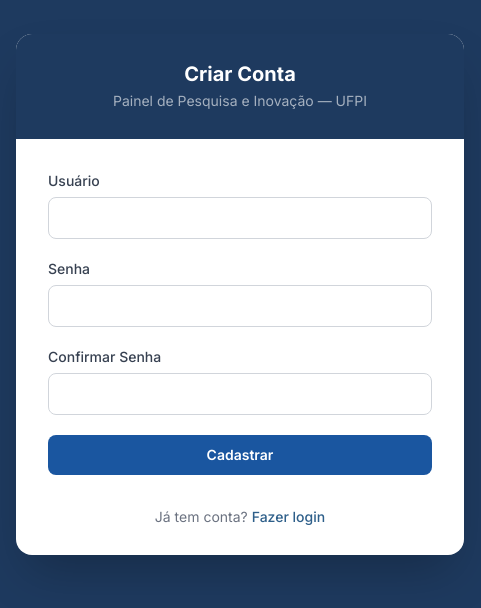
Test: Cadastro › exibe erro quando senha tem menos de 6 caracteres
In the field labelled "Usuário": (240, 218) [48, 196, 432, 238], type "usuario"
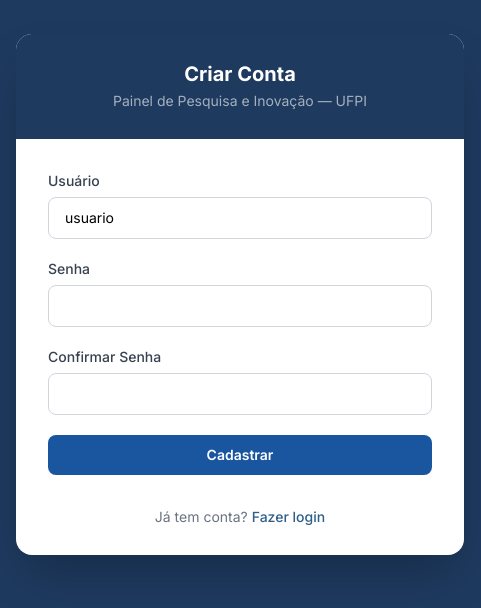
In the password field labelled "Senha": (240, 306) [48, 284, 432, 326], type "123"
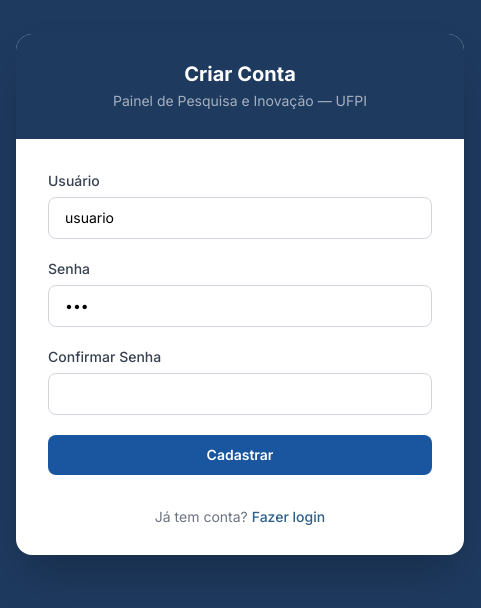
In the password field labelled "Confirmar Senha": (240, 394) [48, 372, 432, 414], type "123"
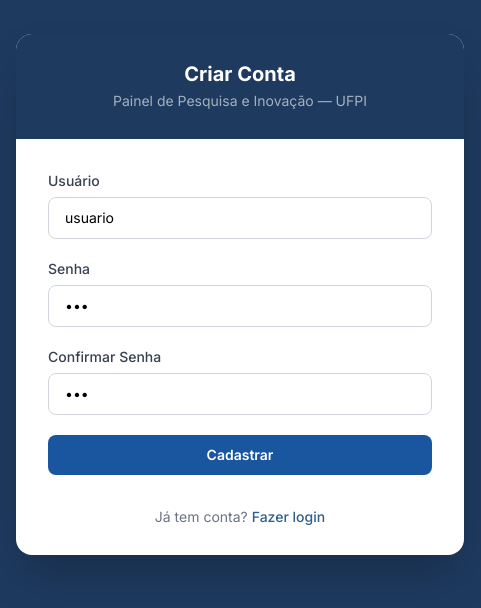
Click the button "Cadastrar": (240, 454) [48, 434, 432, 474]
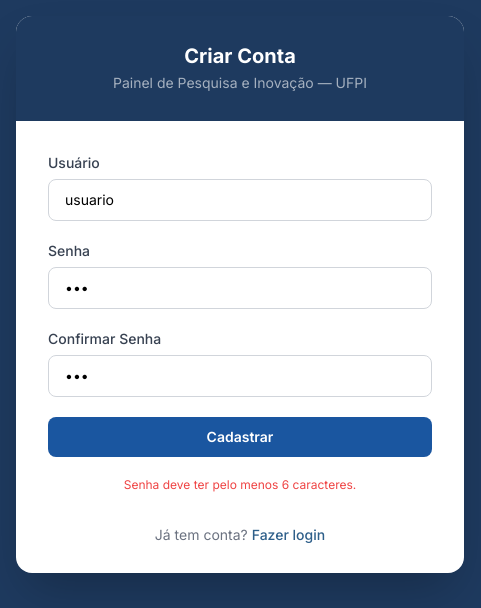
Expected: the text "Senha deve ter pelo menos 6 caracteres." is shown, [124, 476, 356, 492]
